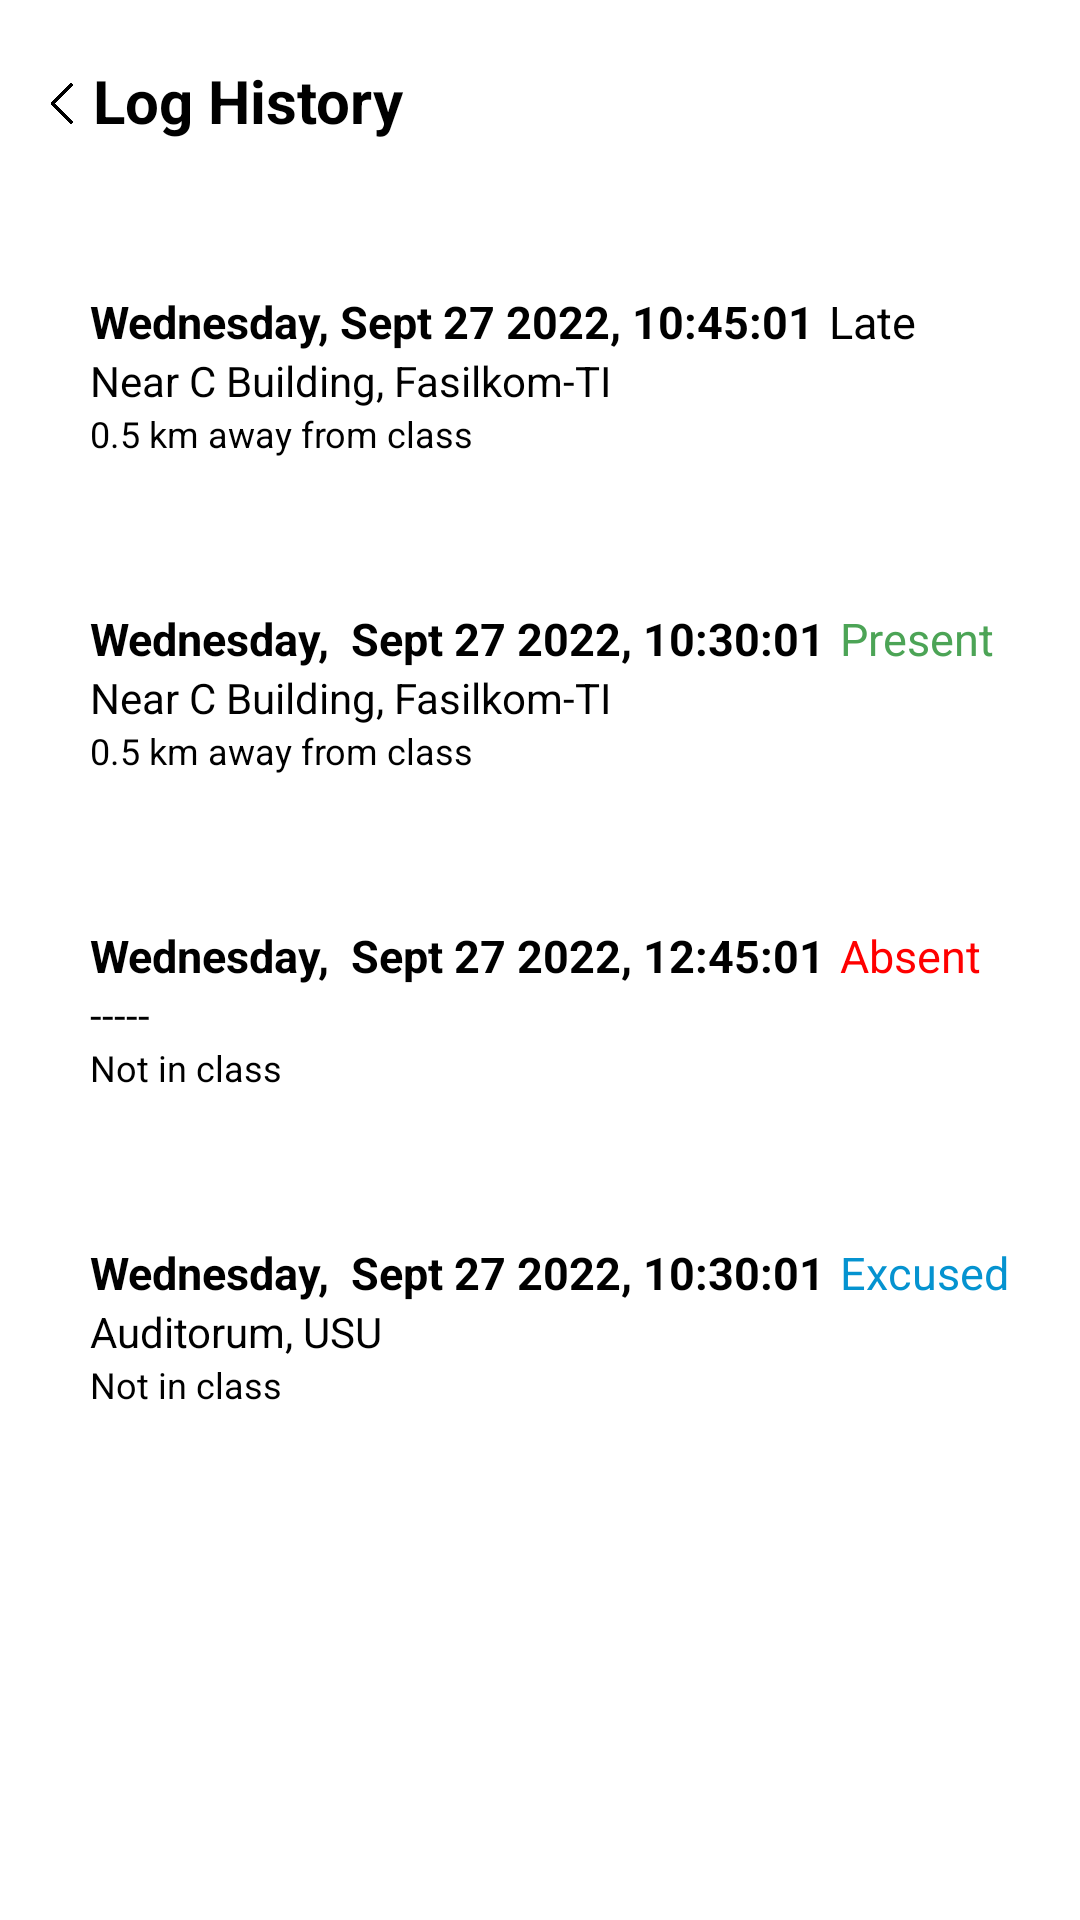

Point at icon controls on the screen. Image size 1080w x 1920h, points as [x,y].
back: [62,103]
